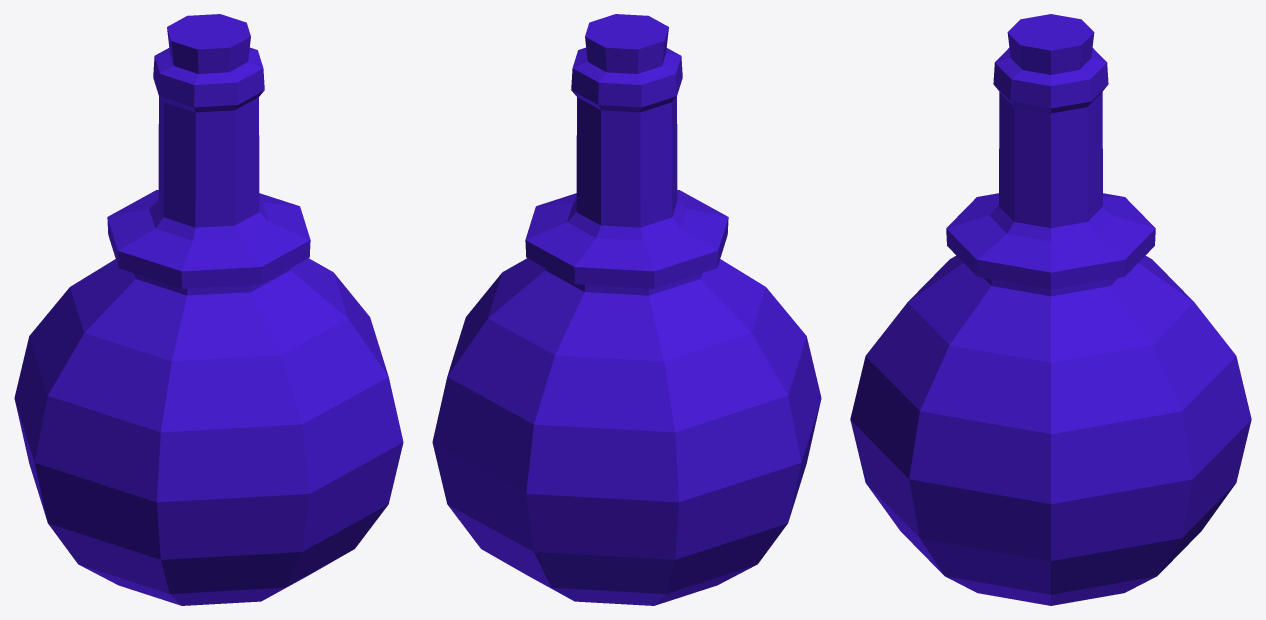
The model's file is potion2.obj.
3 views of the same model, side by side, from view 1: azimuth 30°, elevation 25°; view 2: azimuth 150°, elevation 25°; view 3: azimuth 270°, elevation 25° (orthographic).
Visible parts, largest first — view 1: pSphere6, pCylinder2; view 2: pSphere6, pCylinder2; view 3: pSphere6, pCylinder2.
Part boxes in pixels (bbox=[...]): pSphere6: bbox=[14, 47, 403, 605]; pCylinder2: bbox=[167, 14, 250, 73]; pSphere6: bbox=[432, 47, 821, 605]; pCylinder2: bbox=[585, 14, 668, 73]; pSphere6: bbox=[850, 48, 1251, 605]; pCylinder2: bbox=[1007, 14, 1094, 74].
Size of the model in its own units: 7.27 by 10.59 by 7.27.
1 material, 1 textured.
